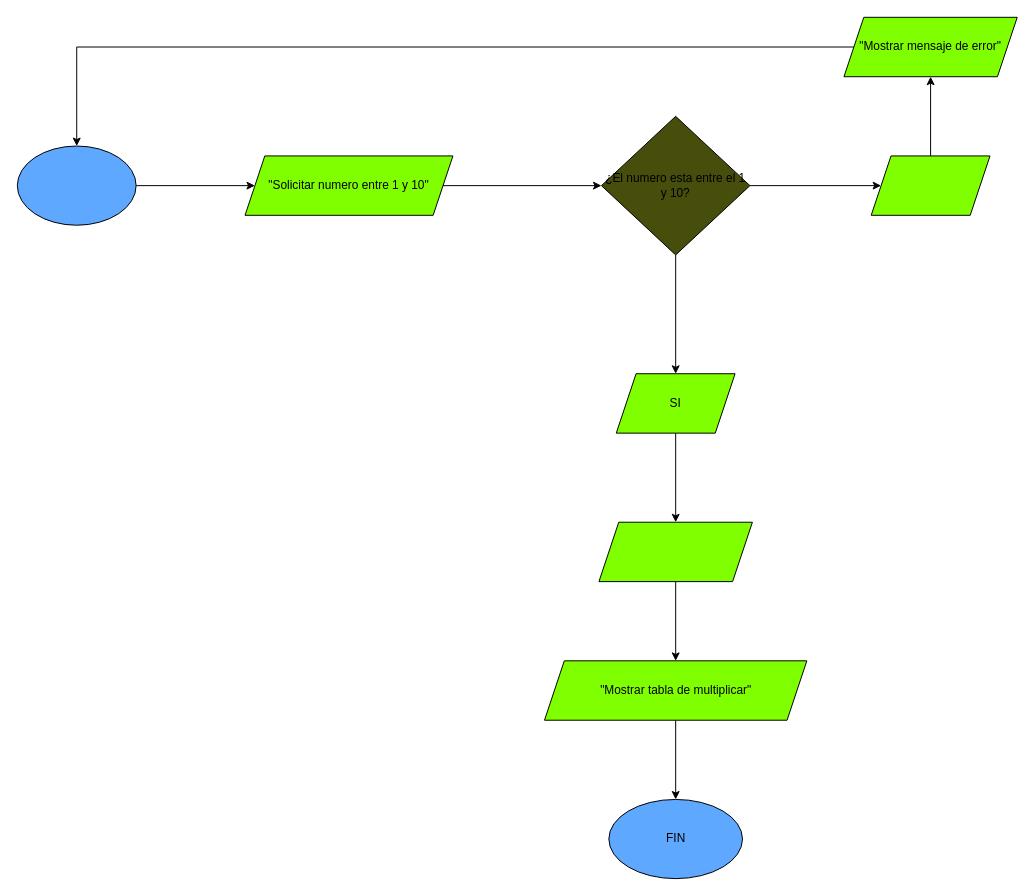
Image size: 1035x896. Some labels were removed from this diagram. Here are the shapes that lost their labels. From the top down, the centre of each, then its label:
(76,185): INICIO
(930,185): NO
(675,551): "Leer archivo de multiplicar"
